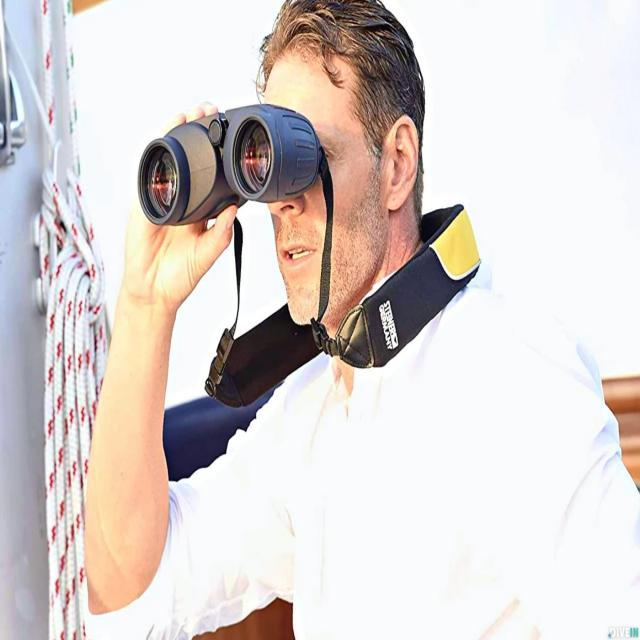Binocular: (124, 95, 333, 235)
